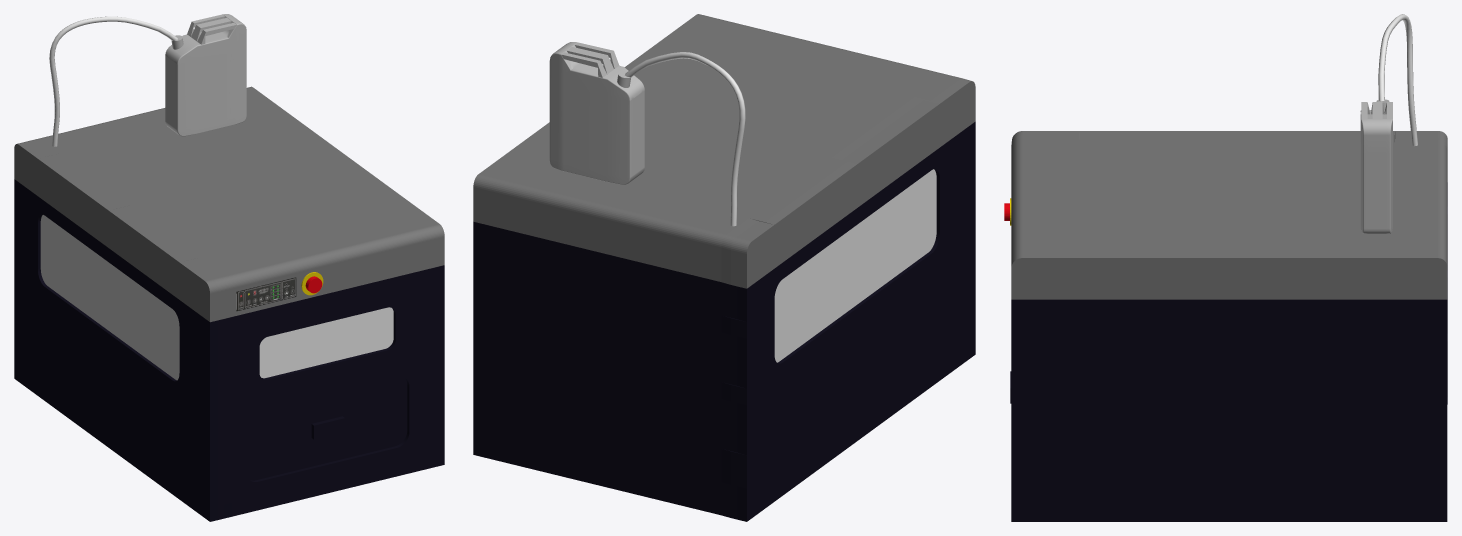
File: printer.fbx
3 renders of one model, left to right at view 1: azimuth 30°, elevation 25°; view 2: azimuth 150°, elevation 25°; view 3: azimuth 270°, elevation 25°, orthographic. The views are drawn at different scales.
Visible parts, largest first — view 1: Cube, Cube.003, Cube.001, pCube3, Cube.002, printer_15_low.001, Cube.004; view 2: Cube, Cube.001, pCube3, printer_15_low.001; view 3: Cube, pCube3, printer_15_low.001.
Part boxes in pixels (box(x1,y1,x2,y2)): Cube: box(14, 86, 444, 521); Cube.003: box(246, 376, 407, 480); Cube.001: box(40, 215, 179, 380); pCube3: box(165, 14, 246, 136); Cube.002: box(259, 307, 393, 378); printer_15_low.001: box(49, 16, 177, 146); Cube.004: box(311, 416, 345, 439); Cube: box(473, 14, 975, 521); Cube.001: box(774, 169, 936, 362); pCube3: box(549, 42, 644, 184); printer_15_low.001: box(625, 52, 745, 226); Cube: box(1011, 131, 1447, 521); pCube3: box(1360, 102, 1392, 233); printer_15_low.001: box(1378, 14, 1417, 146).
Bounding box in the file's own units: 4628 × 6875 × 6813.
